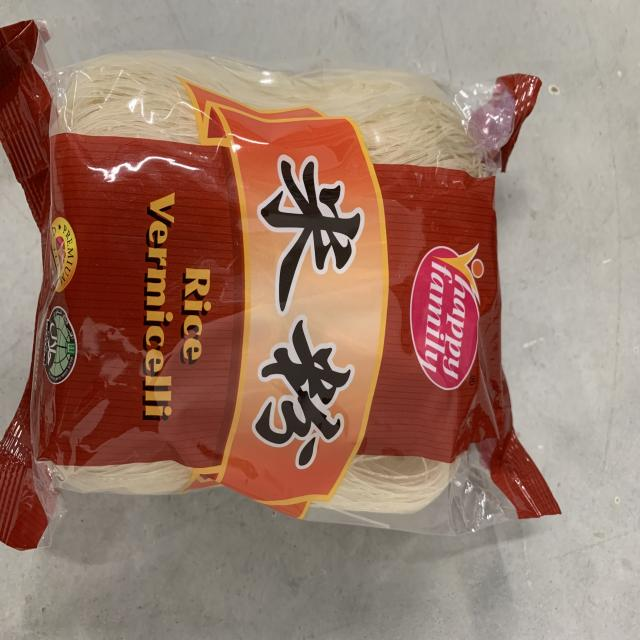object_name: (40, 70, 499, 521)
